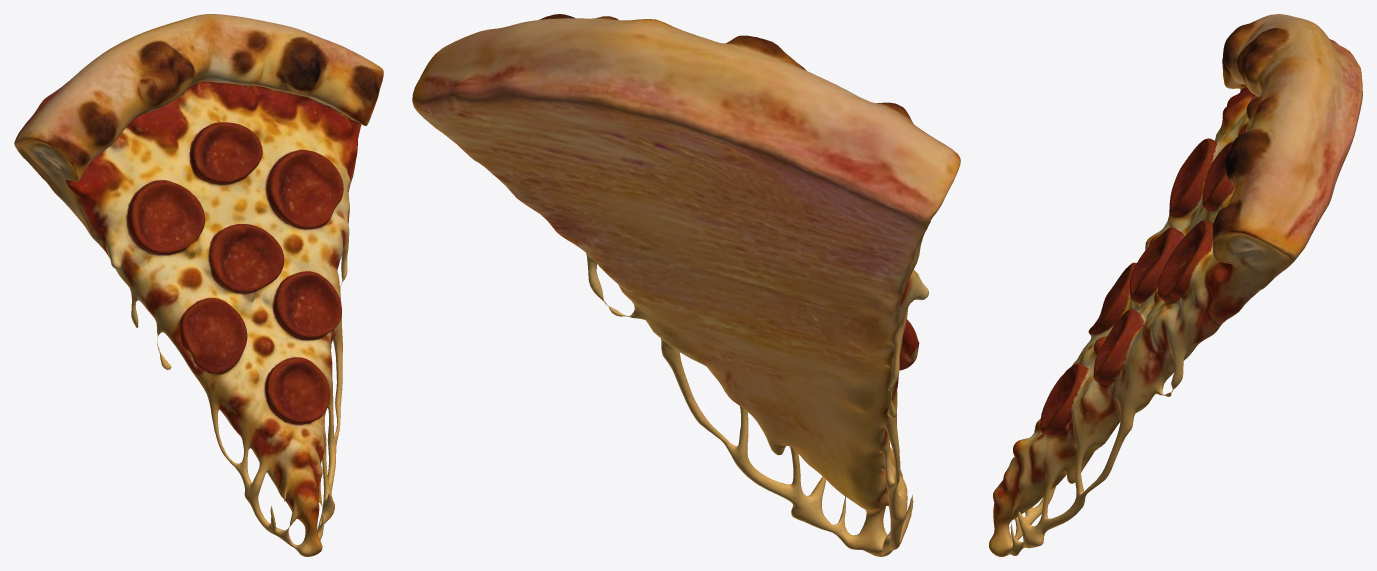
File: neutral_slice.glb
The picture shows the model from 3 angles, left to right: view 1: azimuth 30°, elevation 25°; view 2: azimuth 150°, elevation 25°; view 3: azimuth 270°, elevation 25°; orthographic projection. The views are drawn at different scales.
Size of the model in its own units: 0.7327 by 0.8773 by 0.5842.
1 material, 1 textured.
